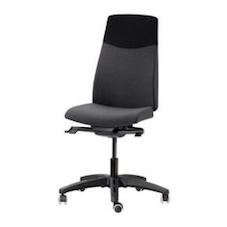chair: (58, 5, 175, 223)
